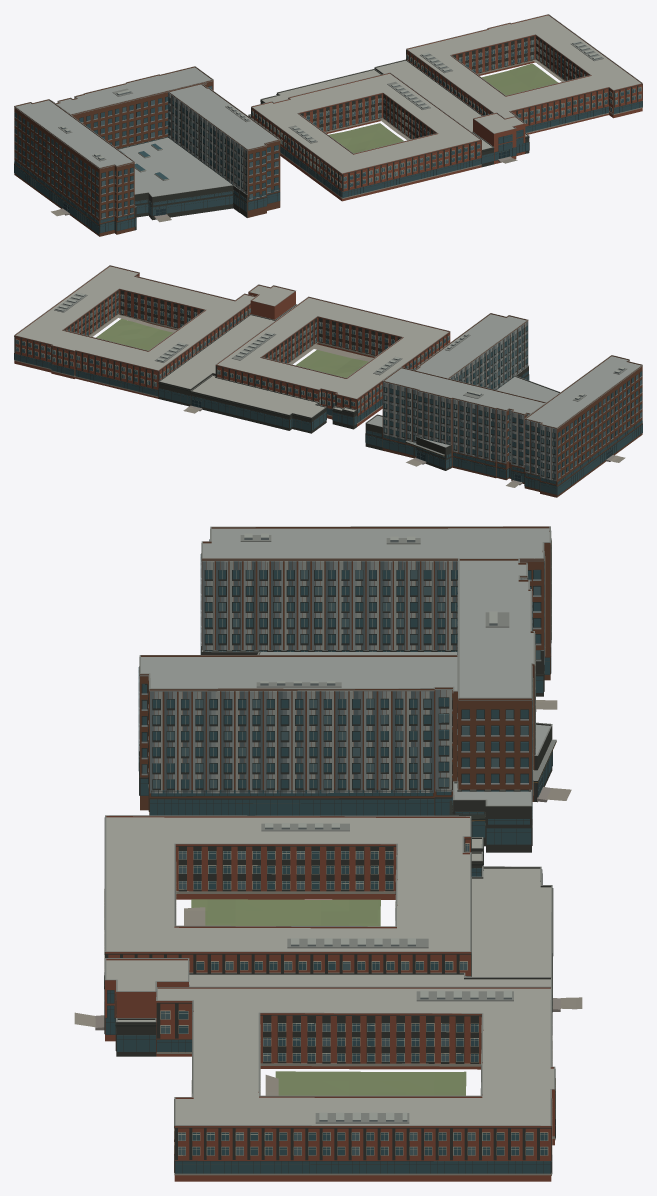
File: site.glb
3 renders of one model, top to bottom at view 1: azimuth 30°, elevation 25°; view 2: azimuth 150°, elevation 25°; view 3: azimuth 270°, elevation 25°, orthographic. The views are drawn at different scales.
Visible parts, largest first — view 1: roof-0de7fadb, context-oc-unthank, bean-unthank-approaches; view 2: roof-0de7fadb, context-oc-unthank, bean-unthank-approaches; view 3: roof-0de7fadb, context-oc-unthank, bean-unthank-approaches.
Boxes of the visible parts, x1,y1,x2,y2 form: roof-0de7fadb: (248, 14, 642, 201); context-oc-unthank: (14, 66, 280, 236); bean-unthank-approaches: (51, 59, 564, 222); roof-0de7fadb: (14, 265, 450, 433); context-oc-unthank: (365, 313, 642, 497); bean-unthank-approaches: (89, 314, 625, 487); roof-0de7fadb: (104, 815, 555, 1181); context-oc-unthank: (138, 526, 556, 852); bean-unthank-approaches: (74, 700, 582, 1095).
Bounding box in the file's own units: 223 × 27.23 × 89.53.
